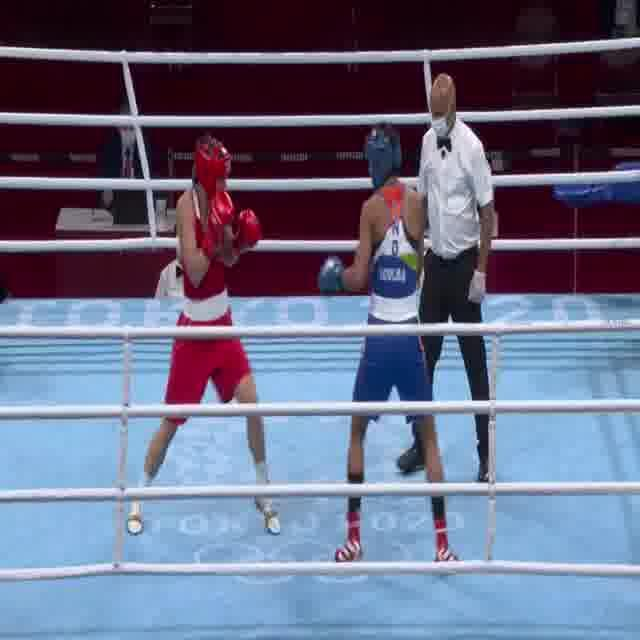blue-player: (315, 122, 464, 576)
red-player: (124, 135, 288, 538)
referee: (393, 69, 497, 491)
